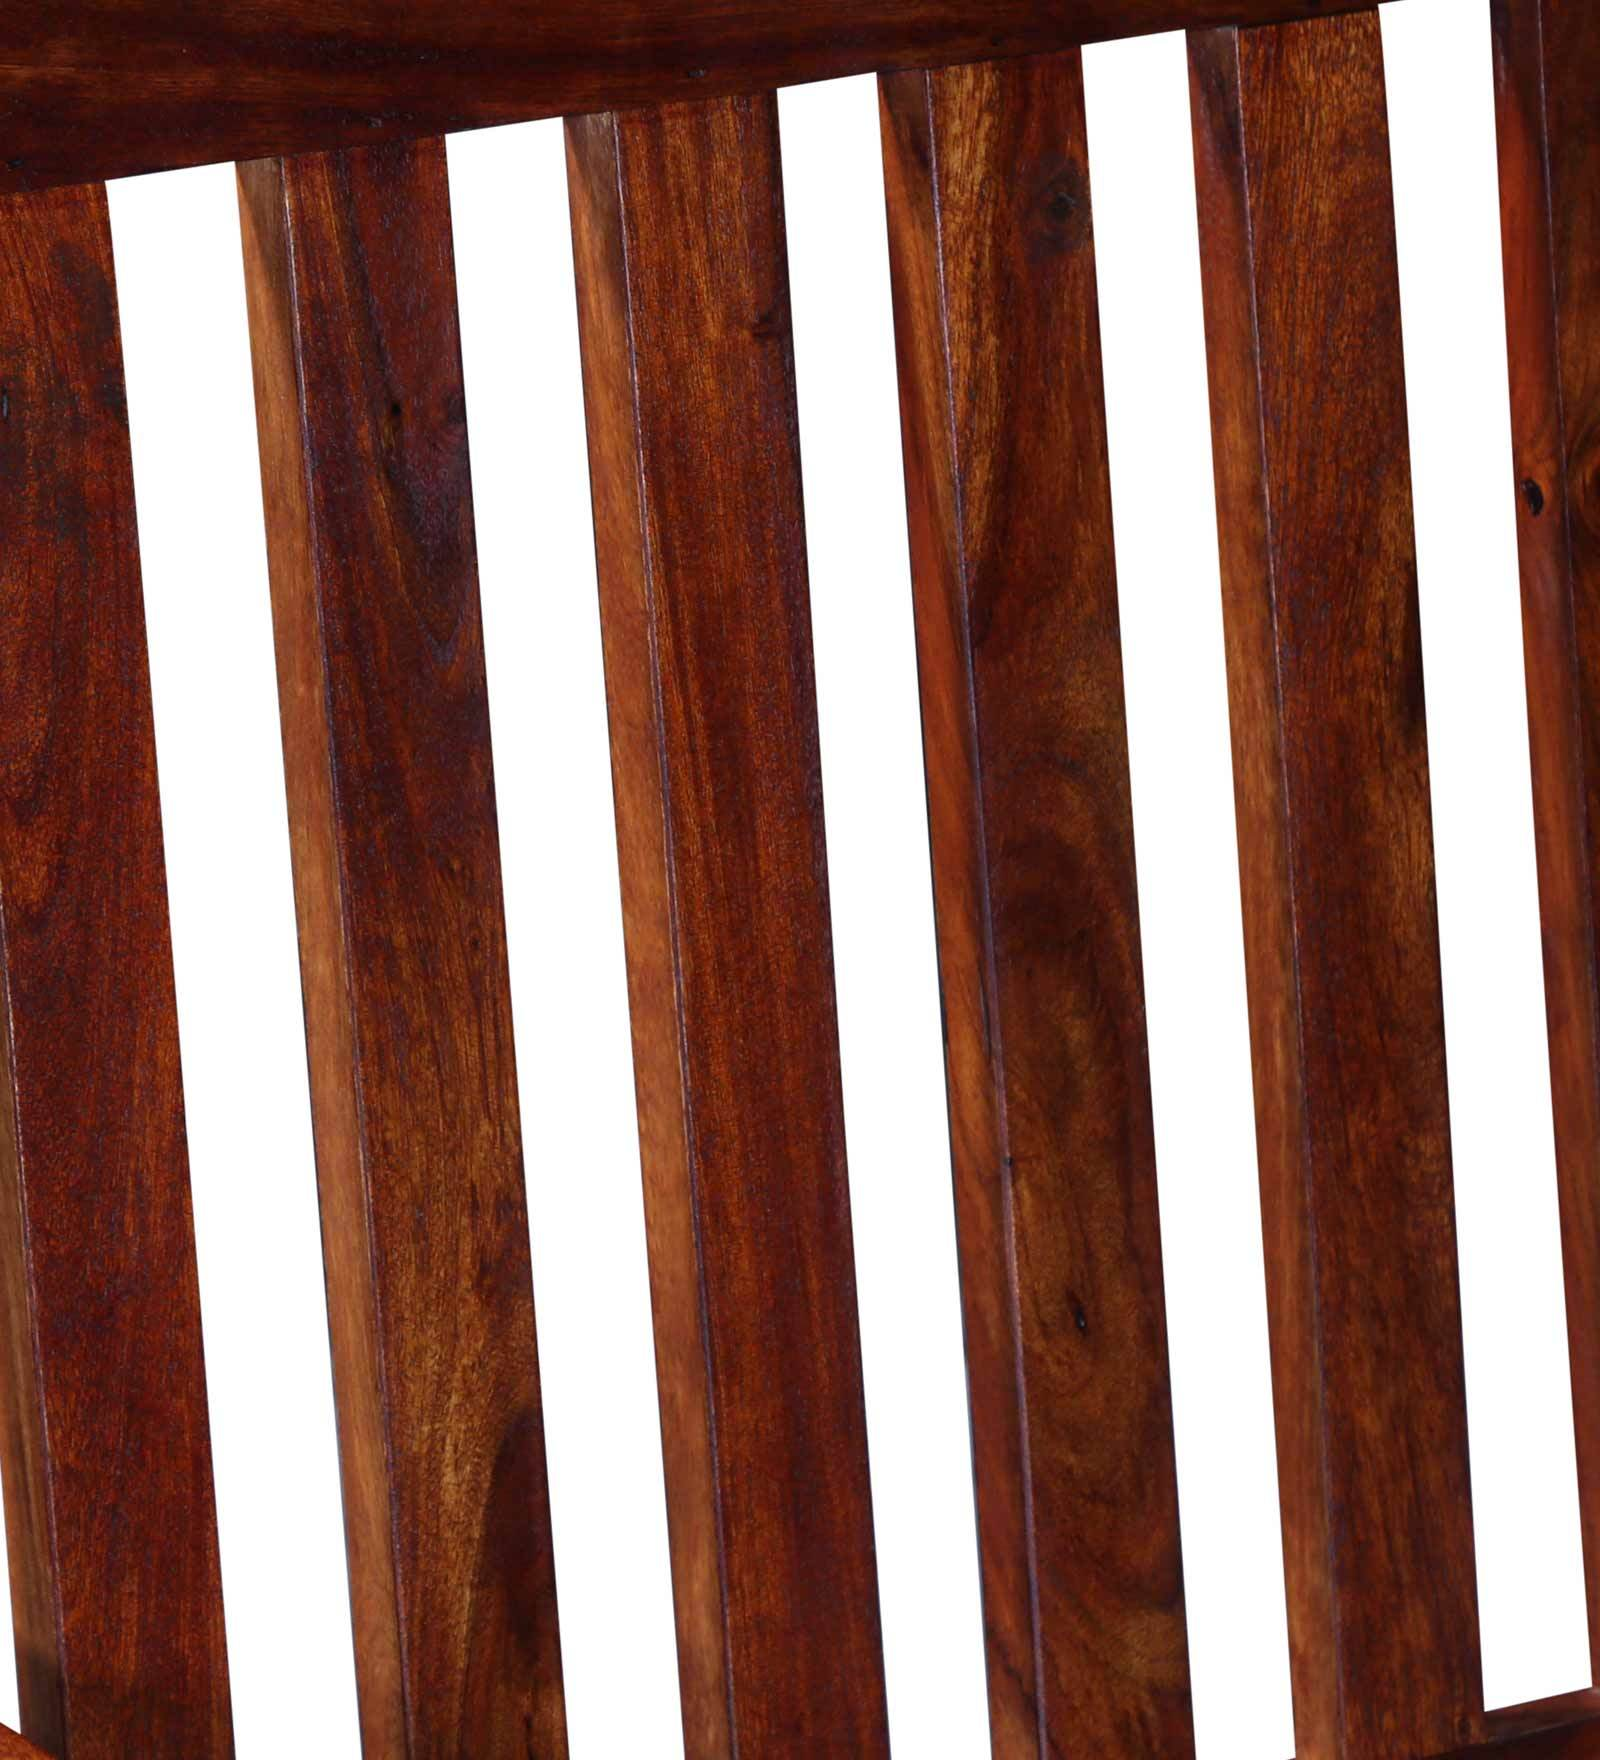Abbey Arm Chair in Honey Oak Finish by Woodsworth: (11, 5, 1598, 1739)
